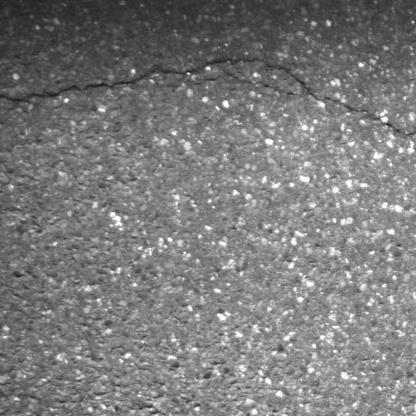Cracks: (0, 55, 416, 141)
